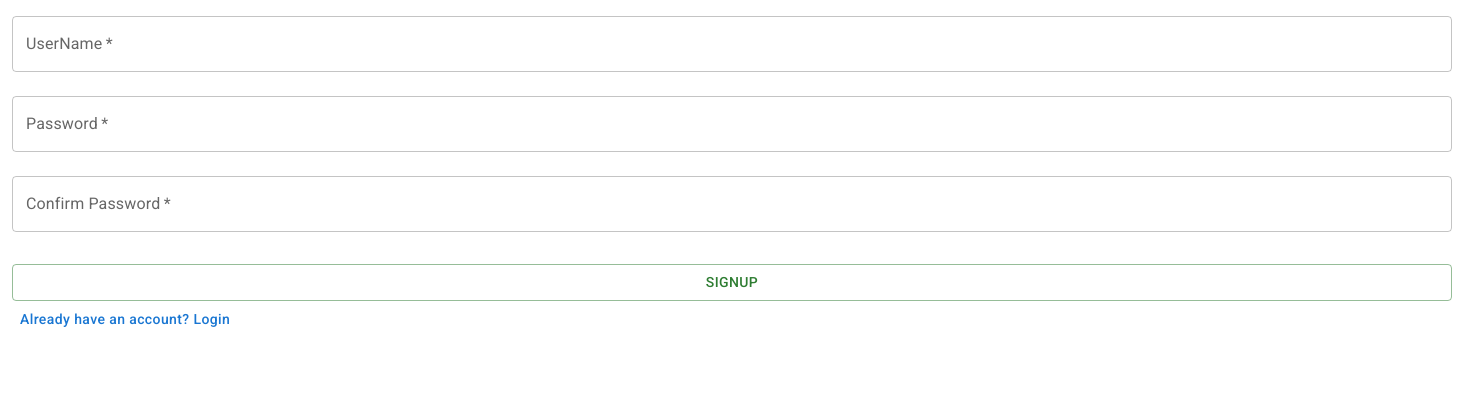
Scenario: SignUp Component › displays error messages for empty fields
Click the button "SignUp" at (732, 282), box [12, 264, 1452, 300]
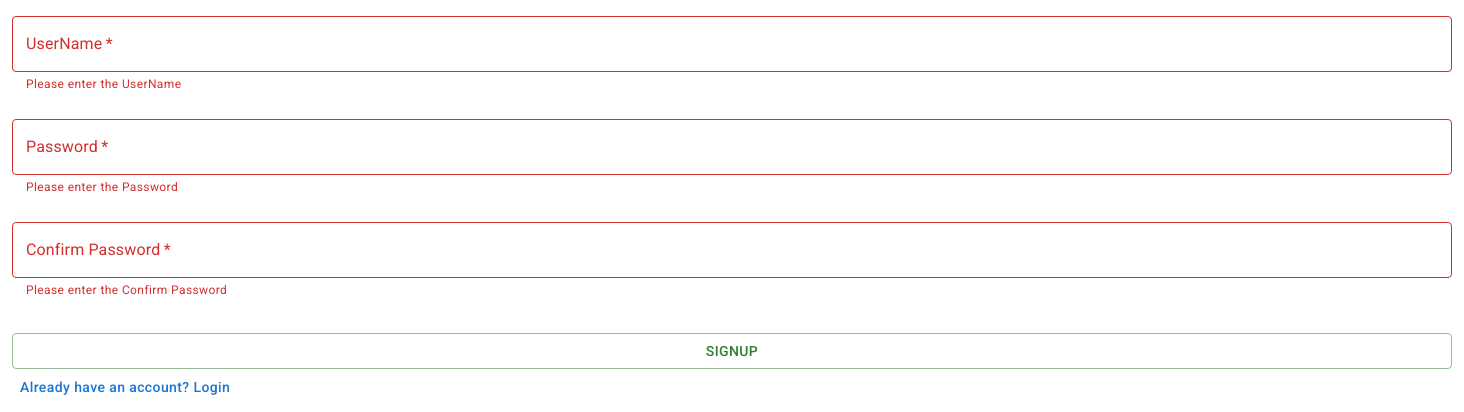
Now the text "Please enter the UserName" is shown, box [26, 77, 182, 91]
Now the text "Please enter the Password" is shown, box [26, 180, 178, 194]
Now the text "Please enter the Confirm Password" is shown, box [26, 283, 227, 297]
